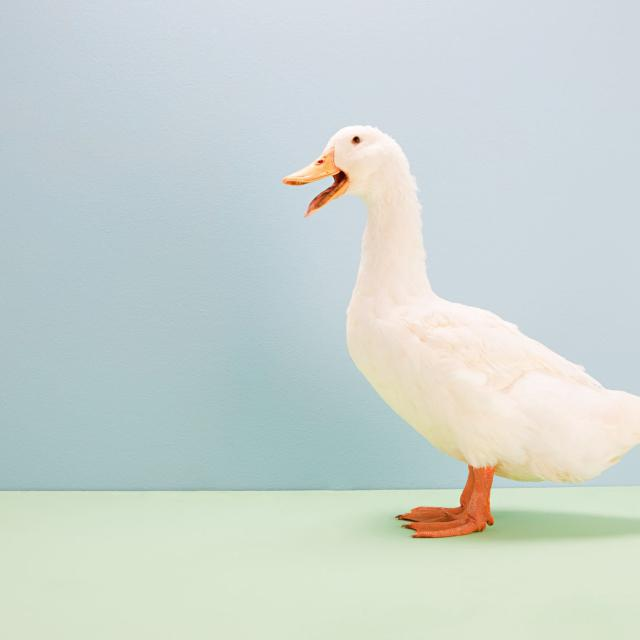Duck: (268, 116, 640, 551)
